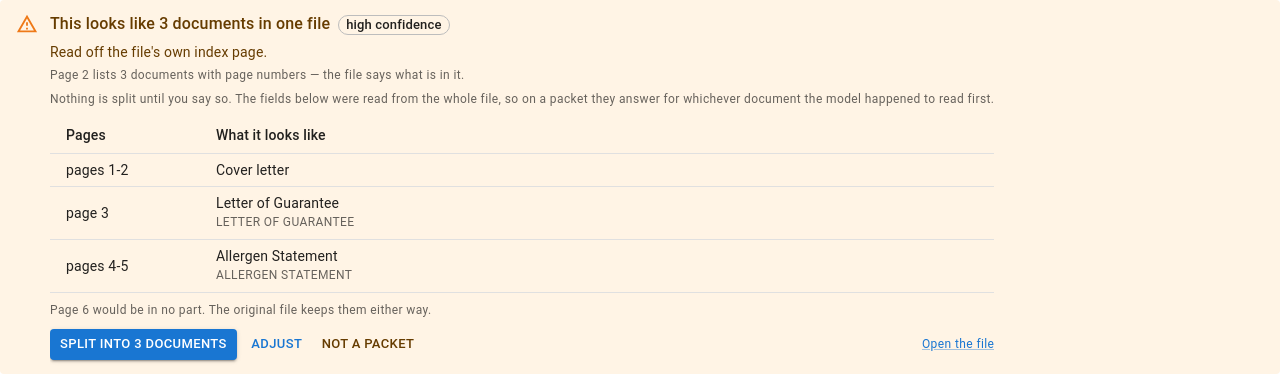
the three actions › "Back to the proposal" throws the edit away without splitting anything
The width and height of the screenshot is (1280, 391).
Step 1. Click the button "Adjust" → click(277, 345), box [245,329,309,360]
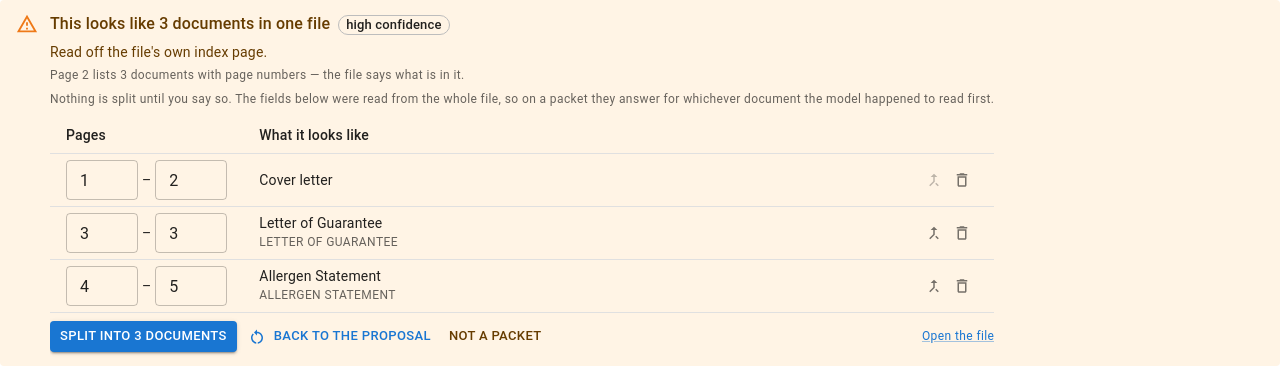
Step 2. Click the button named "drop part 1" → click(962, 180), box [948,166,976,194]
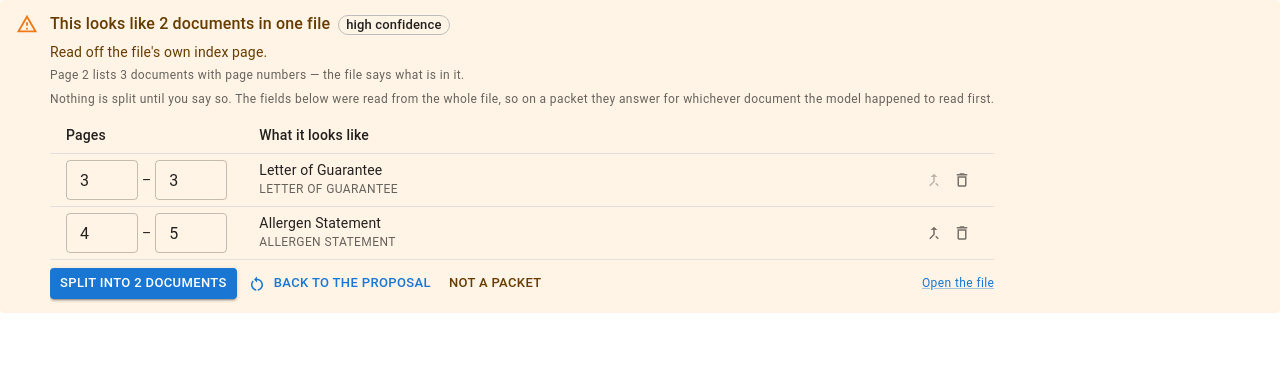
Step 3. Click the button "Back to the proposal" → click(340, 284), box [245,268,436,299]
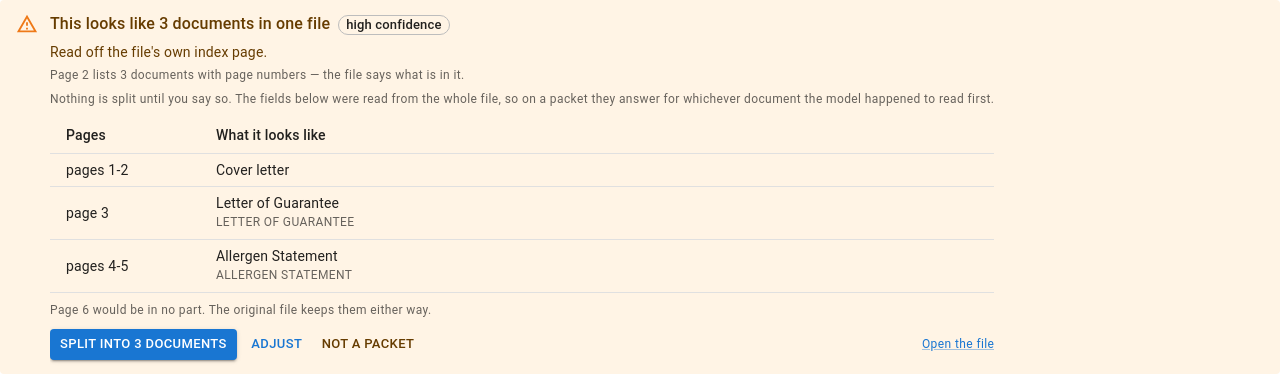
Now the button "Split into 3 documents" is shown, box [50,329,237,360]
